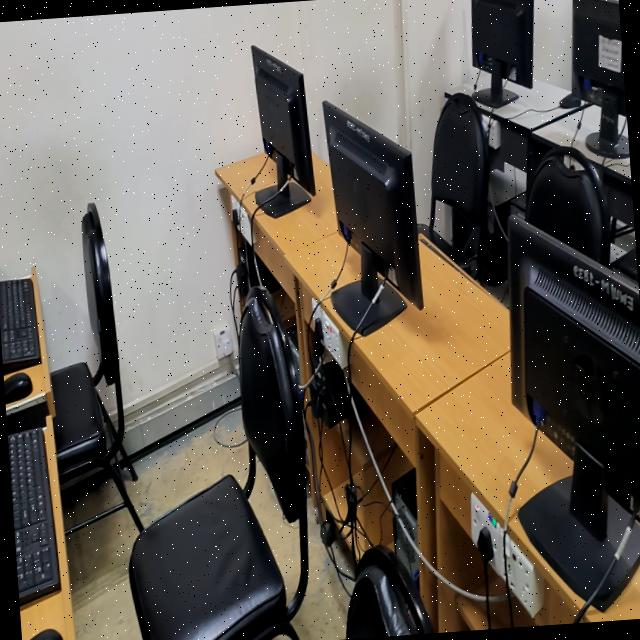Chair: (129, 286, 308, 640), (51, 203, 142, 529), (417, 93, 490, 276), (525, 146, 610, 265), (346, 547, 433, 639)
Cpu: (392, 470, 419, 586)
Keyboard: (7, 428, 60, 605), (0, 278, 41, 372)
Monitor: (508, 216, 640, 623), (323, 101, 423, 336), (252, 46, 315, 217), (573, 0, 629, 157), (471, 0, 533, 106)
